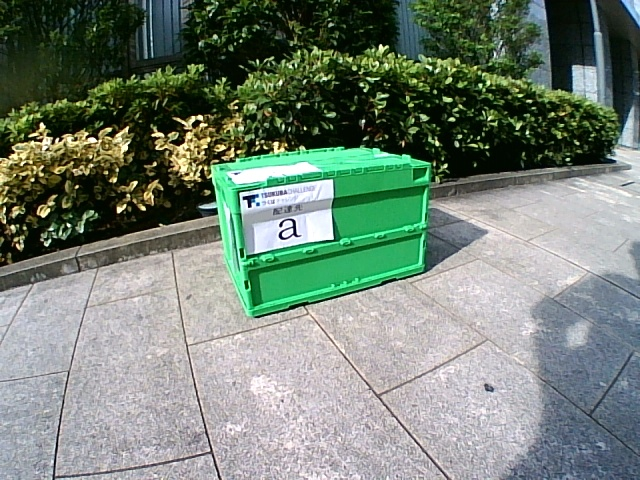blue_box: (211, 146, 431, 318)
tag: (237, 169, 303, 178)
tag_b: (247, 193, 334, 241)
